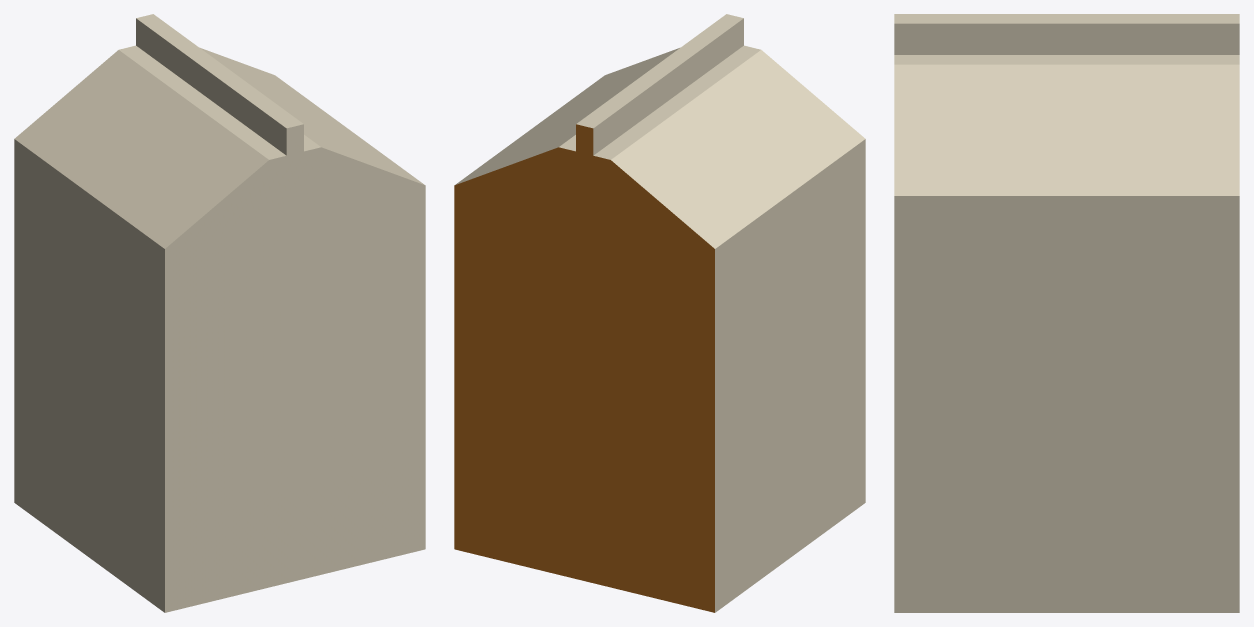
Rendered from juice_carton.glb.
3 renders of one model, left to right at view 1: azimuth 30°, elevation 25°; view 2: azimuth 150°, elevation 25°; view 3: azimuth 270°, elevation 25°, orthographic. The views are drawn at different scales.
Visible parts, largest first — view 1: juice_carton; view 2: juice_carton; view 3: juice_carton.
Boxes of the visible parts, left/top/right/bottom form: juice_carton: left=14, top=14, right=425, bottom=612; juice_carton: left=454, top=14, right=865, bottom=612; juice_carton: left=894, top=14, right=1239, bottom=612.
Bounding box in the file's own units: 0.06 × 0.1 × 0.06.
